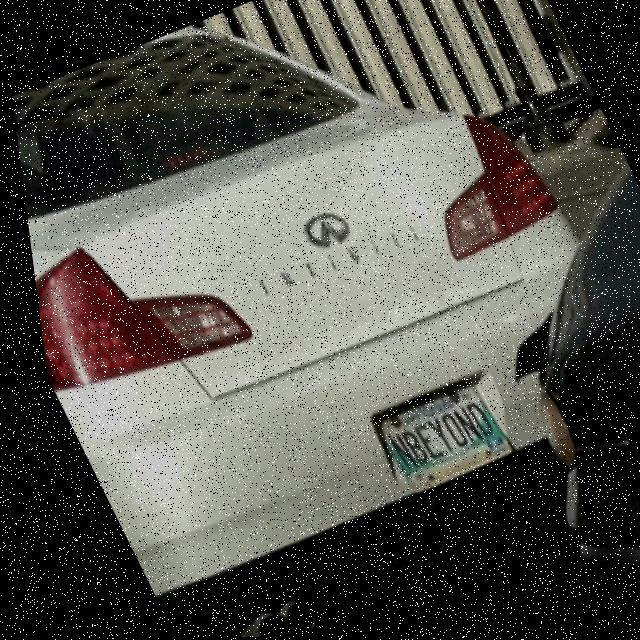license_plate: (356, 382, 505, 491)
